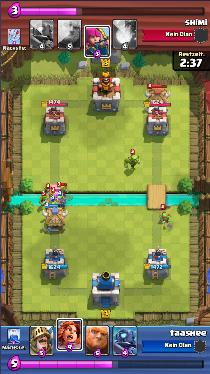ally_goblin_cage: (124, 154, 141, 170)
ally_goblin_hut: (42, 208, 69, 232)
ally_spear_goblin: (56, 196, 68, 208), (49, 201, 59, 208)
enemy_goblin: (39, 194, 48, 205), (59, 185, 68, 196), (43, 186, 52, 194)
enemy_goblin_hut: (143, 87, 171, 106)
enemy_spear_goblin: (158, 211, 171, 225)
